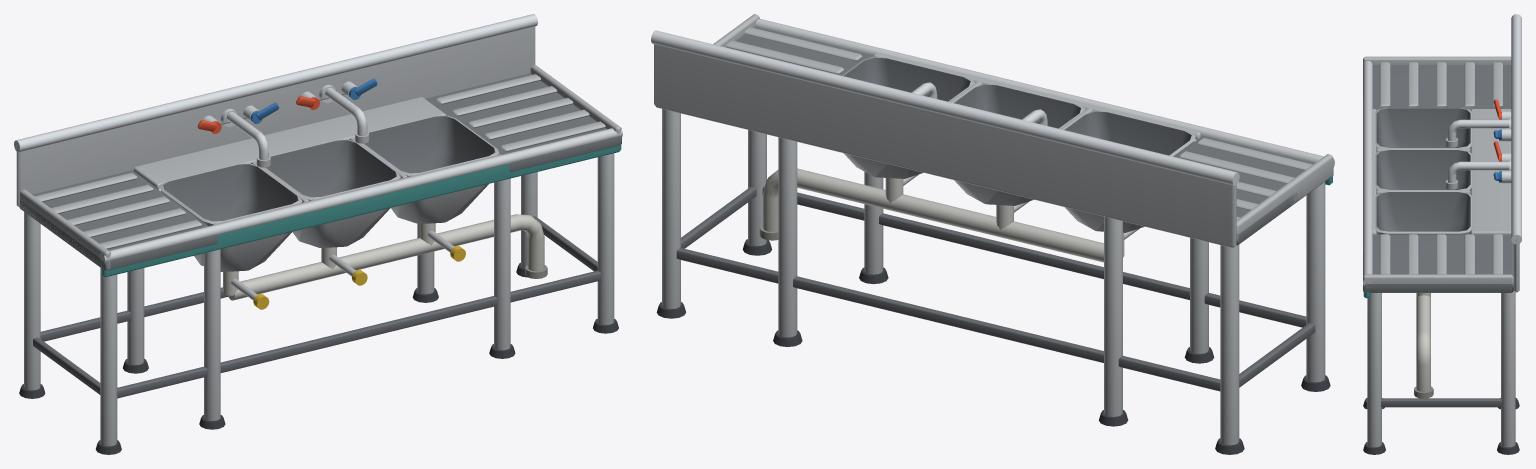
Rendered from SM_Sink_3Comp_Drainboards_25.glb.
3 views of the same model, side by side, from view 1: azimuth 30°, elevation 25°; view 2: azimuth 150°, elevation 25°; view 3: azimuth 270°, elevation 25° (orthographic). The views are drawn at different scales.
Parts seen in each view (by area): view 1: SM_Sink_3Comp_Drainboards_25; view 2: SM_Sink_3Comp_Drainboards_25; view 3: SM_Sink_3Comp_Drainboards_25.
Part boxes in pixels (x1,y1,x2,y2): SM_Sink_3Comp_Drainboards_25: [14, 14, 622, 454]; SM_Sink_3Comp_Drainboards_25: [651, 14, 1334, 454]; SM_Sink_3Comp_Drainboards_25: [1363, 14, 1521, 454].
Size of the model in its own units: 2.51 by 1.16 by 0.7607.
1 material, 1 textured.
